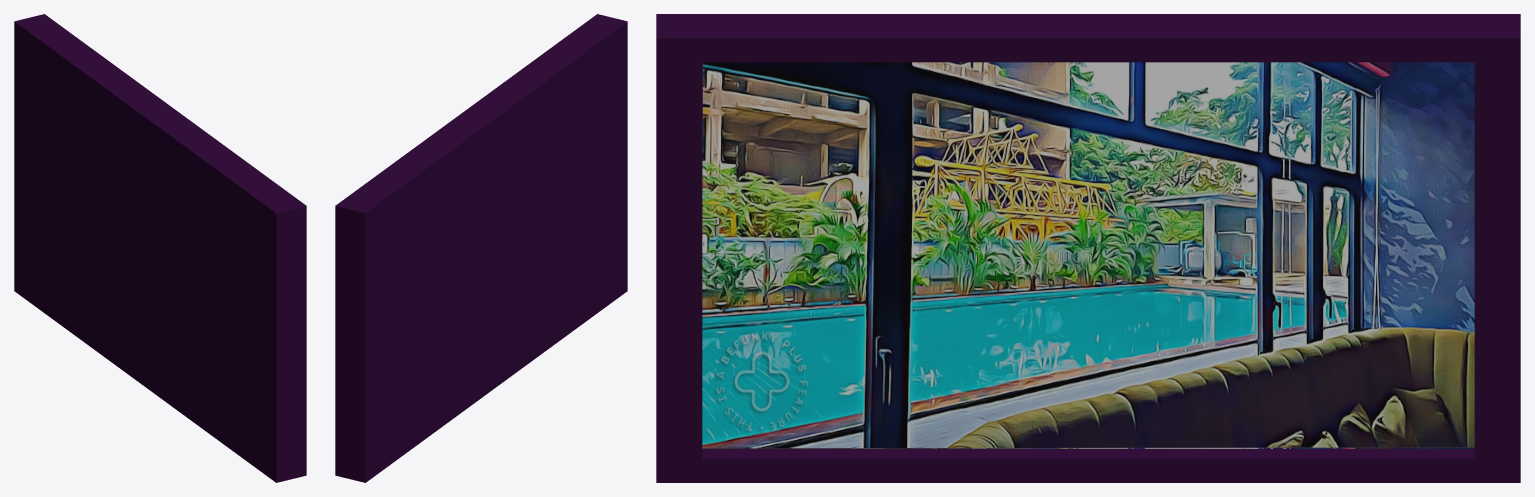
File: YAMAKA.glb
3 renders of one model, left to right at view 1: azimuth 30°, elevation 25°; view 2: azimuth 150°, elevation 25°; view 3: azimuth 270°, elevation 25°, orthographic. The views are drawn at different scales.
Parts seen in each view (by area): view 1: Cube; view 2: Cube; view 3: Cube.001, Cube.
Part boxes in pixels (bbox=[...]): Cube: bbox=[14, 14, 306, 482]; Cube: bbox=[335, 14, 627, 482]; Cube.001: bbox=[702, 62, 1474, 448]; Cube: bbox=[656, 14, 1520, 482].
Size of the model in its own units: 1.02 by 8.65 by 15.24.
Materials: 2 (1 with a texture image).
